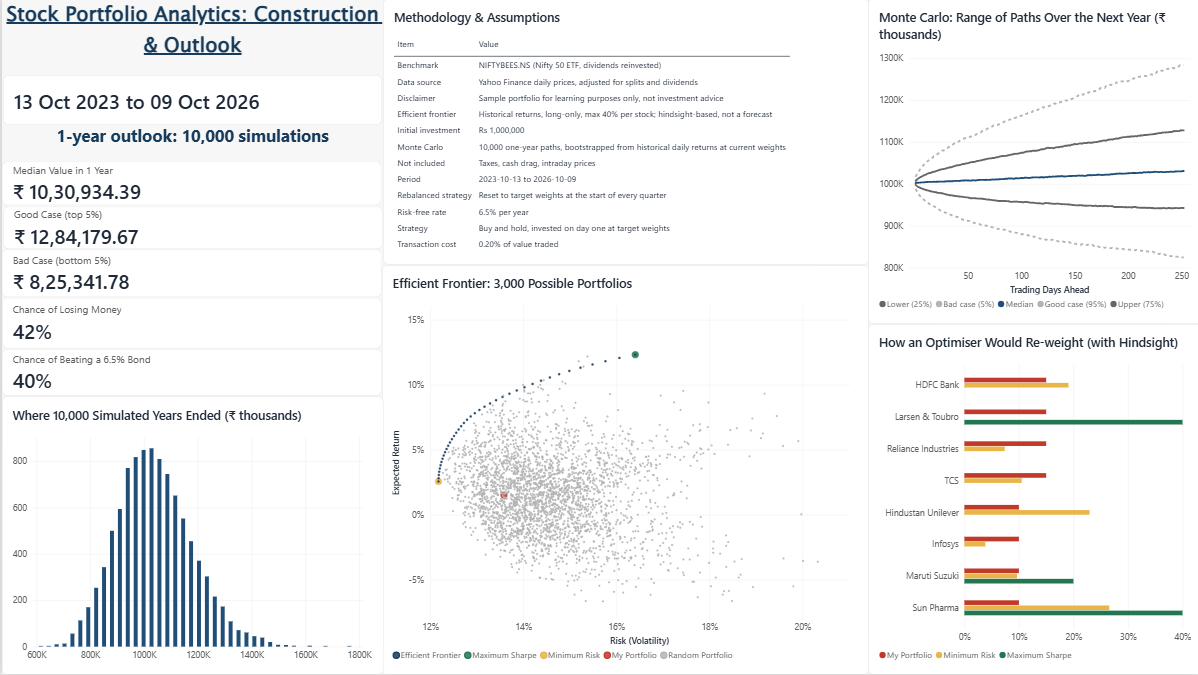

The dashboard page shown, as its layout file describes it:
{"tool":"powerbi","page":{"name":"Construction & Outlook","canvas":[1920,1080],"ordinal":2},"visuals":[{"type":"textbox","box":[1.8,0,606.2,121.2],"z":0},{"type":"cardVisual","fields":{"Data":["_Measures.Period Label"]},"box":[1.8,121.2,606.2,79.6],"z":8000},{"type":"cardVisual","fields":{"Data":["_Measures.MC Median"]},"box":[0,260.9,607.3,71],"z":8001},{"type":"cardVisual","fields":{"Data":["_Measures.MC Good Case"]},"box":[2.1,331.8,607.3,68.9],"z":8002},{"type":"cardVisual","fields":{"Data":["_Measures.MC Bad Case"]},"box":[0,400.7,607.3,77.2],"z":8003},{"type":"cardVisual","fields":{"Data":["_Measures.Prob Loss"]},"box":[0,477.9,607.3,81.4],"z":8004},{"type":"cardVisual","fields":{"Data":["_Measures.Prob Beat Bond"]},"box":[0,559.3,607.3,75.1],"z":8005},{"type":"textbox","box":[2.1,200.3,605.2,60.5],"z":8006},{"type":"scatterChart","title":"Efficient Frontier: 3,000 Possible Portfolios","fields":{"Category":["efficient_frontier.Index"],"Series":["efficient_frontier.Type"],"Size":["Sum(efficient_frontier.Point Size)"],"X":["Sum(efficient_frontier.Volatility)"],"Y":["Sum(efficient_frontier.Return)"]},"box":[608.3,425,778.3,655],"z":8007},{"type":"lineChart","title":"Monte Carlo: Range of Paths Over the Next Year (₹ thousands)","fields":{"Category":["monte_carlo_paths.Day"],"Y":["Sum(monte_carlo_paths.P25)","Sum(monte_carlo_paths.P5)","Sum(monte_carlo_paths.P50)","Sum(monte_carlo_paths.P95)","Sum(monte_carlo_paths.P75)"]},"box":[1386.2,0,533.8,519.4],"z":8008},{"type":"clusteredColumnChart","title":"Where 10,000 Simulated Years Ended (₹ thousands)","fields":{"Category":["monte_carlo_distribution.Ending_Value"],"Y":["Sum(monte_carlo_distribution.Simulations)"]},"box":[0,635,610,445],"z":8009},{"type":"tableEx","title":"Methodology & Assumptions","fields":{"Values":["assumptions.Column1","assumptions.Column2"]},"box":[610,0,776.7,425],"z":8010},{"type":"clusteredBarChart","title":"How an Optimiser Would Re-weight (with Hindsight)","fields":{"Category":["optimal_weights.Company"],"Y":["Sum(optimal_weights.My_Portfolio)","Sum(optimal_weights.Minimum_Risk)","Sum(optimal_weights.Maximum_Sharpe)"]},"box":[1386,519,534,561],"z":8011}]}

Visuals, with their boxes in screenshot pixels (x1, y1, x2, y2), scaled from the page's 1920x1080 canvas onto the 1198x675 screenshot:
textbox: (left=1, top=0, right=379, bottom=76)
cardVisual - _Measures.Period Label: (left=1, top=76, right=379, bottom=126)
cardVisual - _Measures.MC Median: (left=0, top=163, right=379, bottom=207)
cardVisual - _Measures.MC Good Case: (left=1, top=207, right=380, bottom=250)
cardVisual - _Measures.MC Bad Case: (left=0, top=250, right=379, bottom=299)
cardVisual - _Measures.Prob Loss: (left=0, top=299, right=379, bottom=350)
cardVisual - _Measures.Prob Beat Bond: (left=0, top=350, right=379, bottom=396)
textbox: (left=1, top=125, right=379, bottom=163)
"Efficient Frontier: 3,000 Possible Portfolios" scatterChart: (left=380, top=266, right=865, bottom=674)
"Monte Carlo: Range of Paths Over the Next Year (₹ thousands)" lineChart: (left=865, top=0, right=1197, bottom=325)
"Where 10,000 Simulated Years Ended (₹ thousands)" clusteredColumnChart: (left=0, top=397, right=381, bottom=674)
"Methodology & Assumptions" tableEx: (left=381, top=0, right=865, bottom=266)
"How an Optimiser Would Re-weight (with Hindsight)" clusteredBarChart: (left=865, top=324, right=1197, bottom=674)
